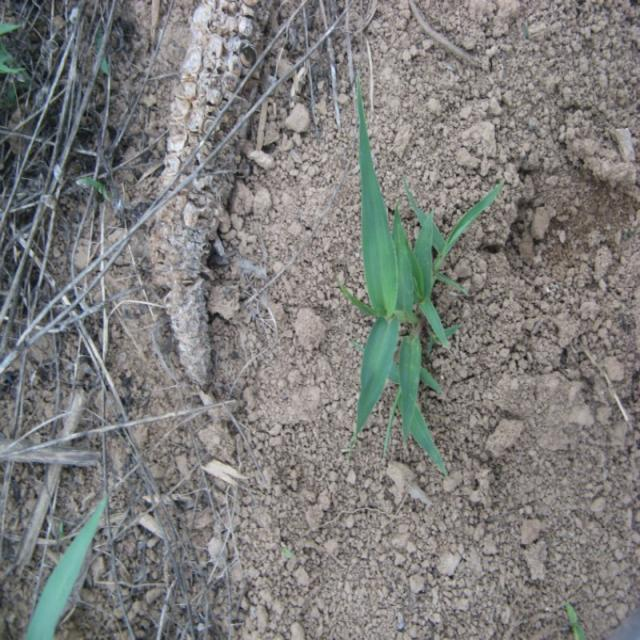bg: (350, 83, 507, 478)
